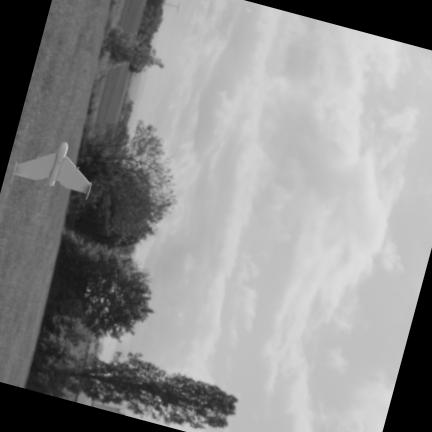Shahed: (12, 142, 90, 198)
